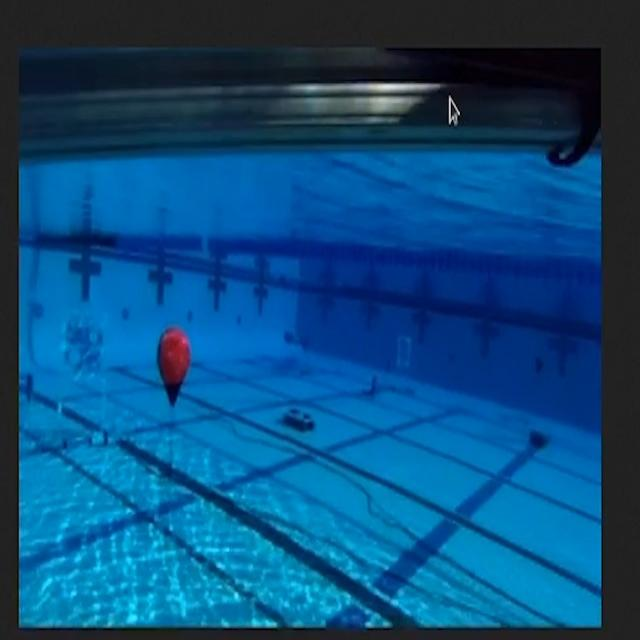Buoy: (146, 318, 198, 422)
